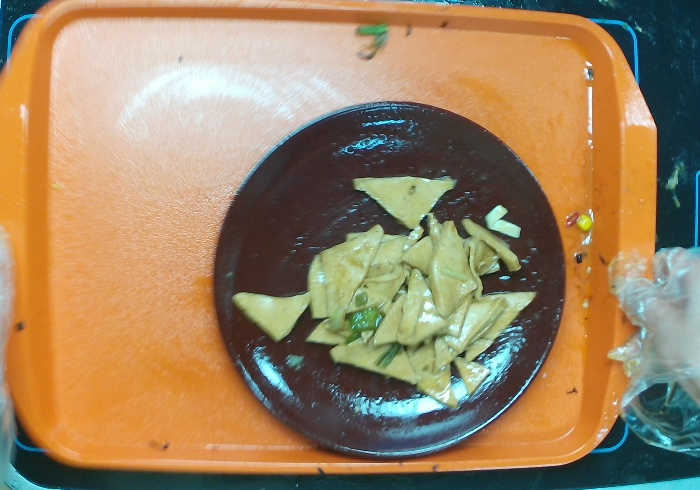HZYJPL-Ka_Fei_Yuan_Pan: (204, 95, 565, 457)
